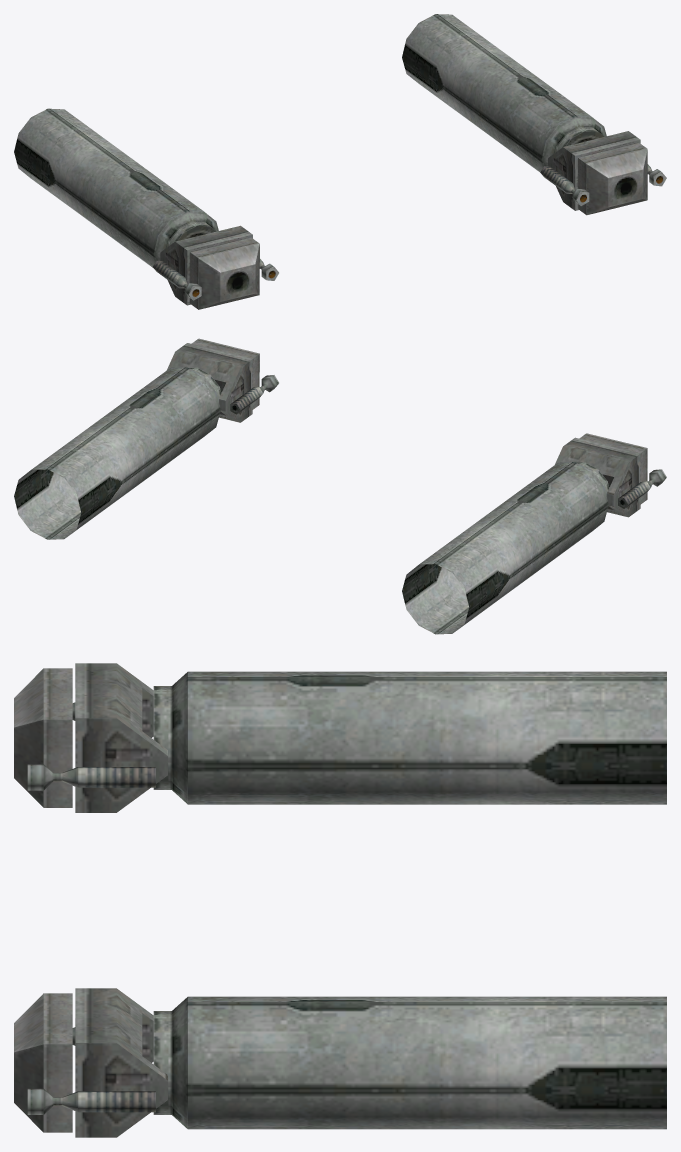
File: hutt_fighter_heavy_weapon1_s03_l0.fbx
3 views of the same model, one above another, from view 1: azimuth 30°, elevation 25°; view 2: azimuth 150°, elevation 25°; view 3: azimuth 270°, elevation 25° (orthographic). The views are drawn at different scales.
Parts seen in each view (by area): view 1: mesh_node; view 2: mesh_node; view 3: mesh_node.
Boxes of the visible parts, x1,y1,x2,y2 form: mesh_node: [14, 14, 666, 309]; mesh_node: [14, 338, 666, 634]; mesh_node: [14, 663, 666, 1137].
Bounding box in the file's own units: 2.91 × 0.4098 × 2.01.
Materials: 1 (1 with a texture image).
